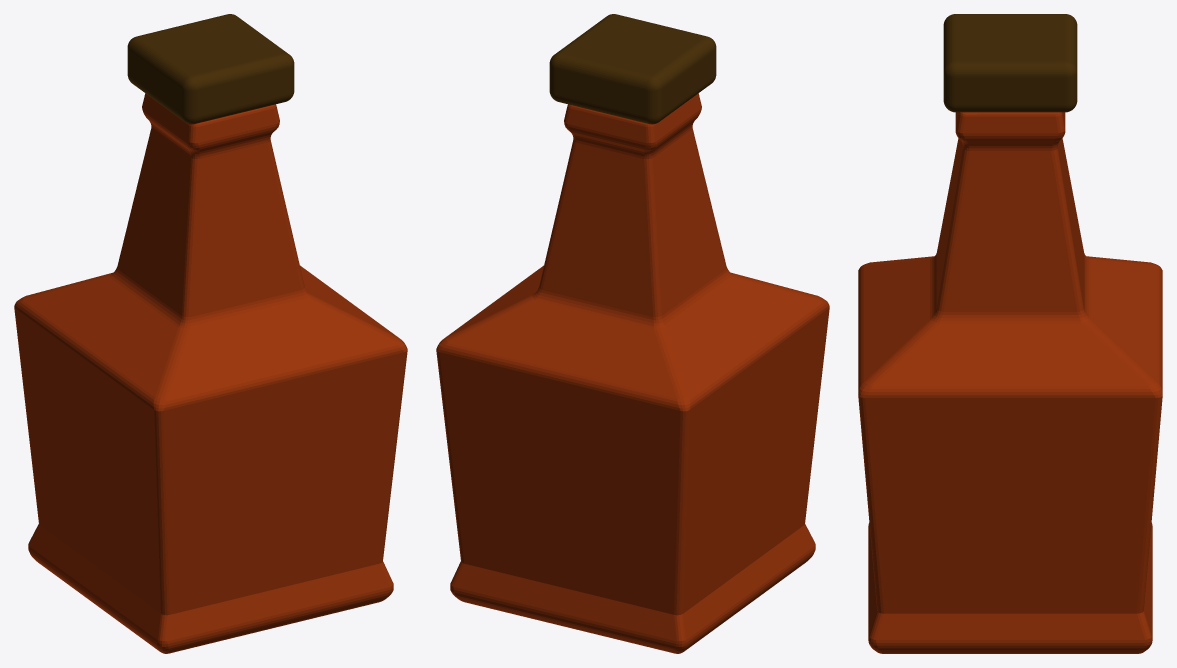
Rendered from Botella_Whisky.fbx.
3 views of the same model, side by side, from view 1: azimuth 30°, elevation 25°; view 2: azimuth 150°, elevation 25°; view 3: azimuth 270°, elevation 25° (orthographic). The views are drawn at different scales.
Visible parts, largest first — view 1: Botella2, Tapon2; view 2: Botella2, Tapon2; view 3: Botella2, Tapon2.
Part boxes in pixels (left/top/right/bottom): Botella2: left=14, top=93, right=407, bottom=653; Tapon2: left=127, top=14, right=294, bottom=124; Botella2: left=436, top=93, right=829, bottom=653; Tapon2: left=549, top=14, right=716, bottom=124; Botella2: left=858, top=112, right=1162, bottom=653; Tapon2: left=943, top=14, right=1077, bottom=112.
Bounding box in the file's own units: 11.52 × 23.43 × 11.52.
